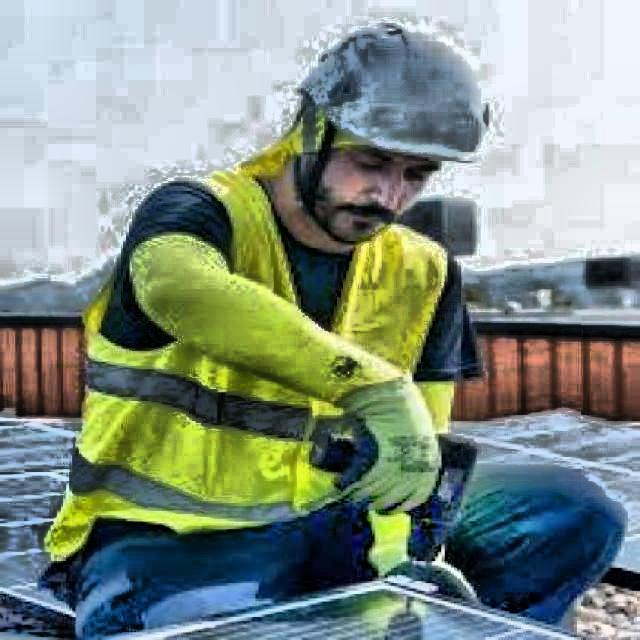safety_helmet: (282, 19, 496, 167)
safety_jacket: (43, 171, 465, 605)
